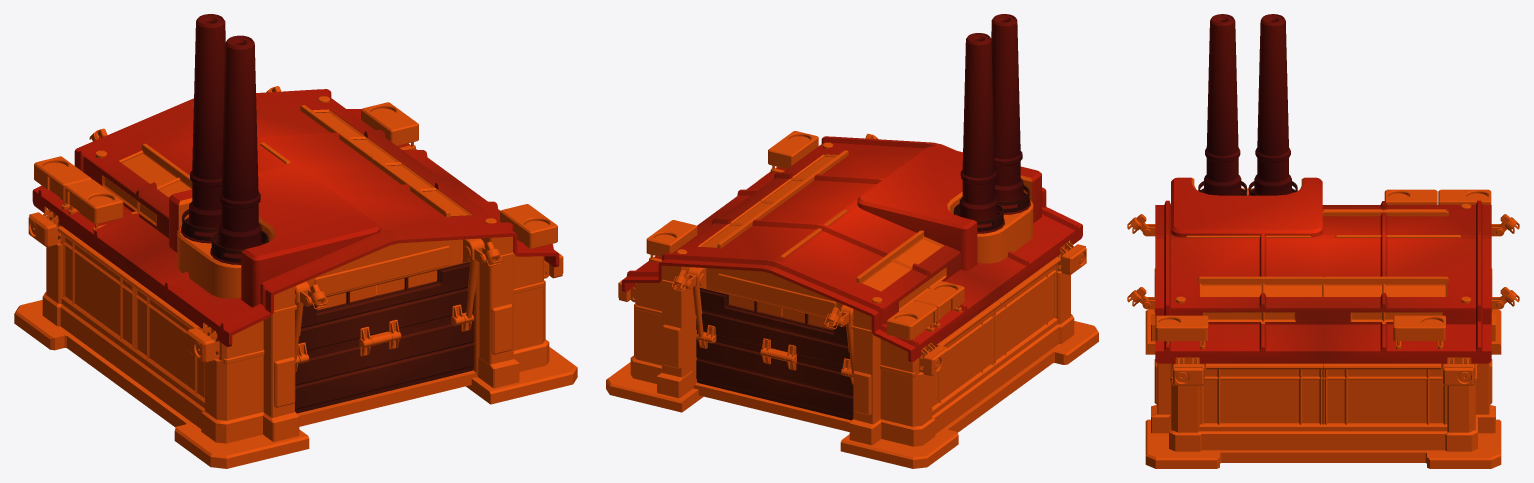
Rendered from WbFactory.fbx.
3 renders of one model, left to right at view 1: azimuth 30°, elevation 25°; view 2: azimuth 150°, elevation 25°; view 3: azimuth 270°, elevation 25°, orthographic. The views are drawn at different scales.
Parts seen in each view (by area): view 1: Cube.042; view 2: Cube.042; view 3: Cube.042.
Boxes of the visible parts, box(x1,y1,x2,y2) form: Cube.042: box(14, 14, 577, 468); Cube.042: box(606, 14, 1098, 468); Cube.042: box(1127, 14, 1519, 468).
Bounding box in the file's own units: 1.17 × 1.16 × 1.27.
